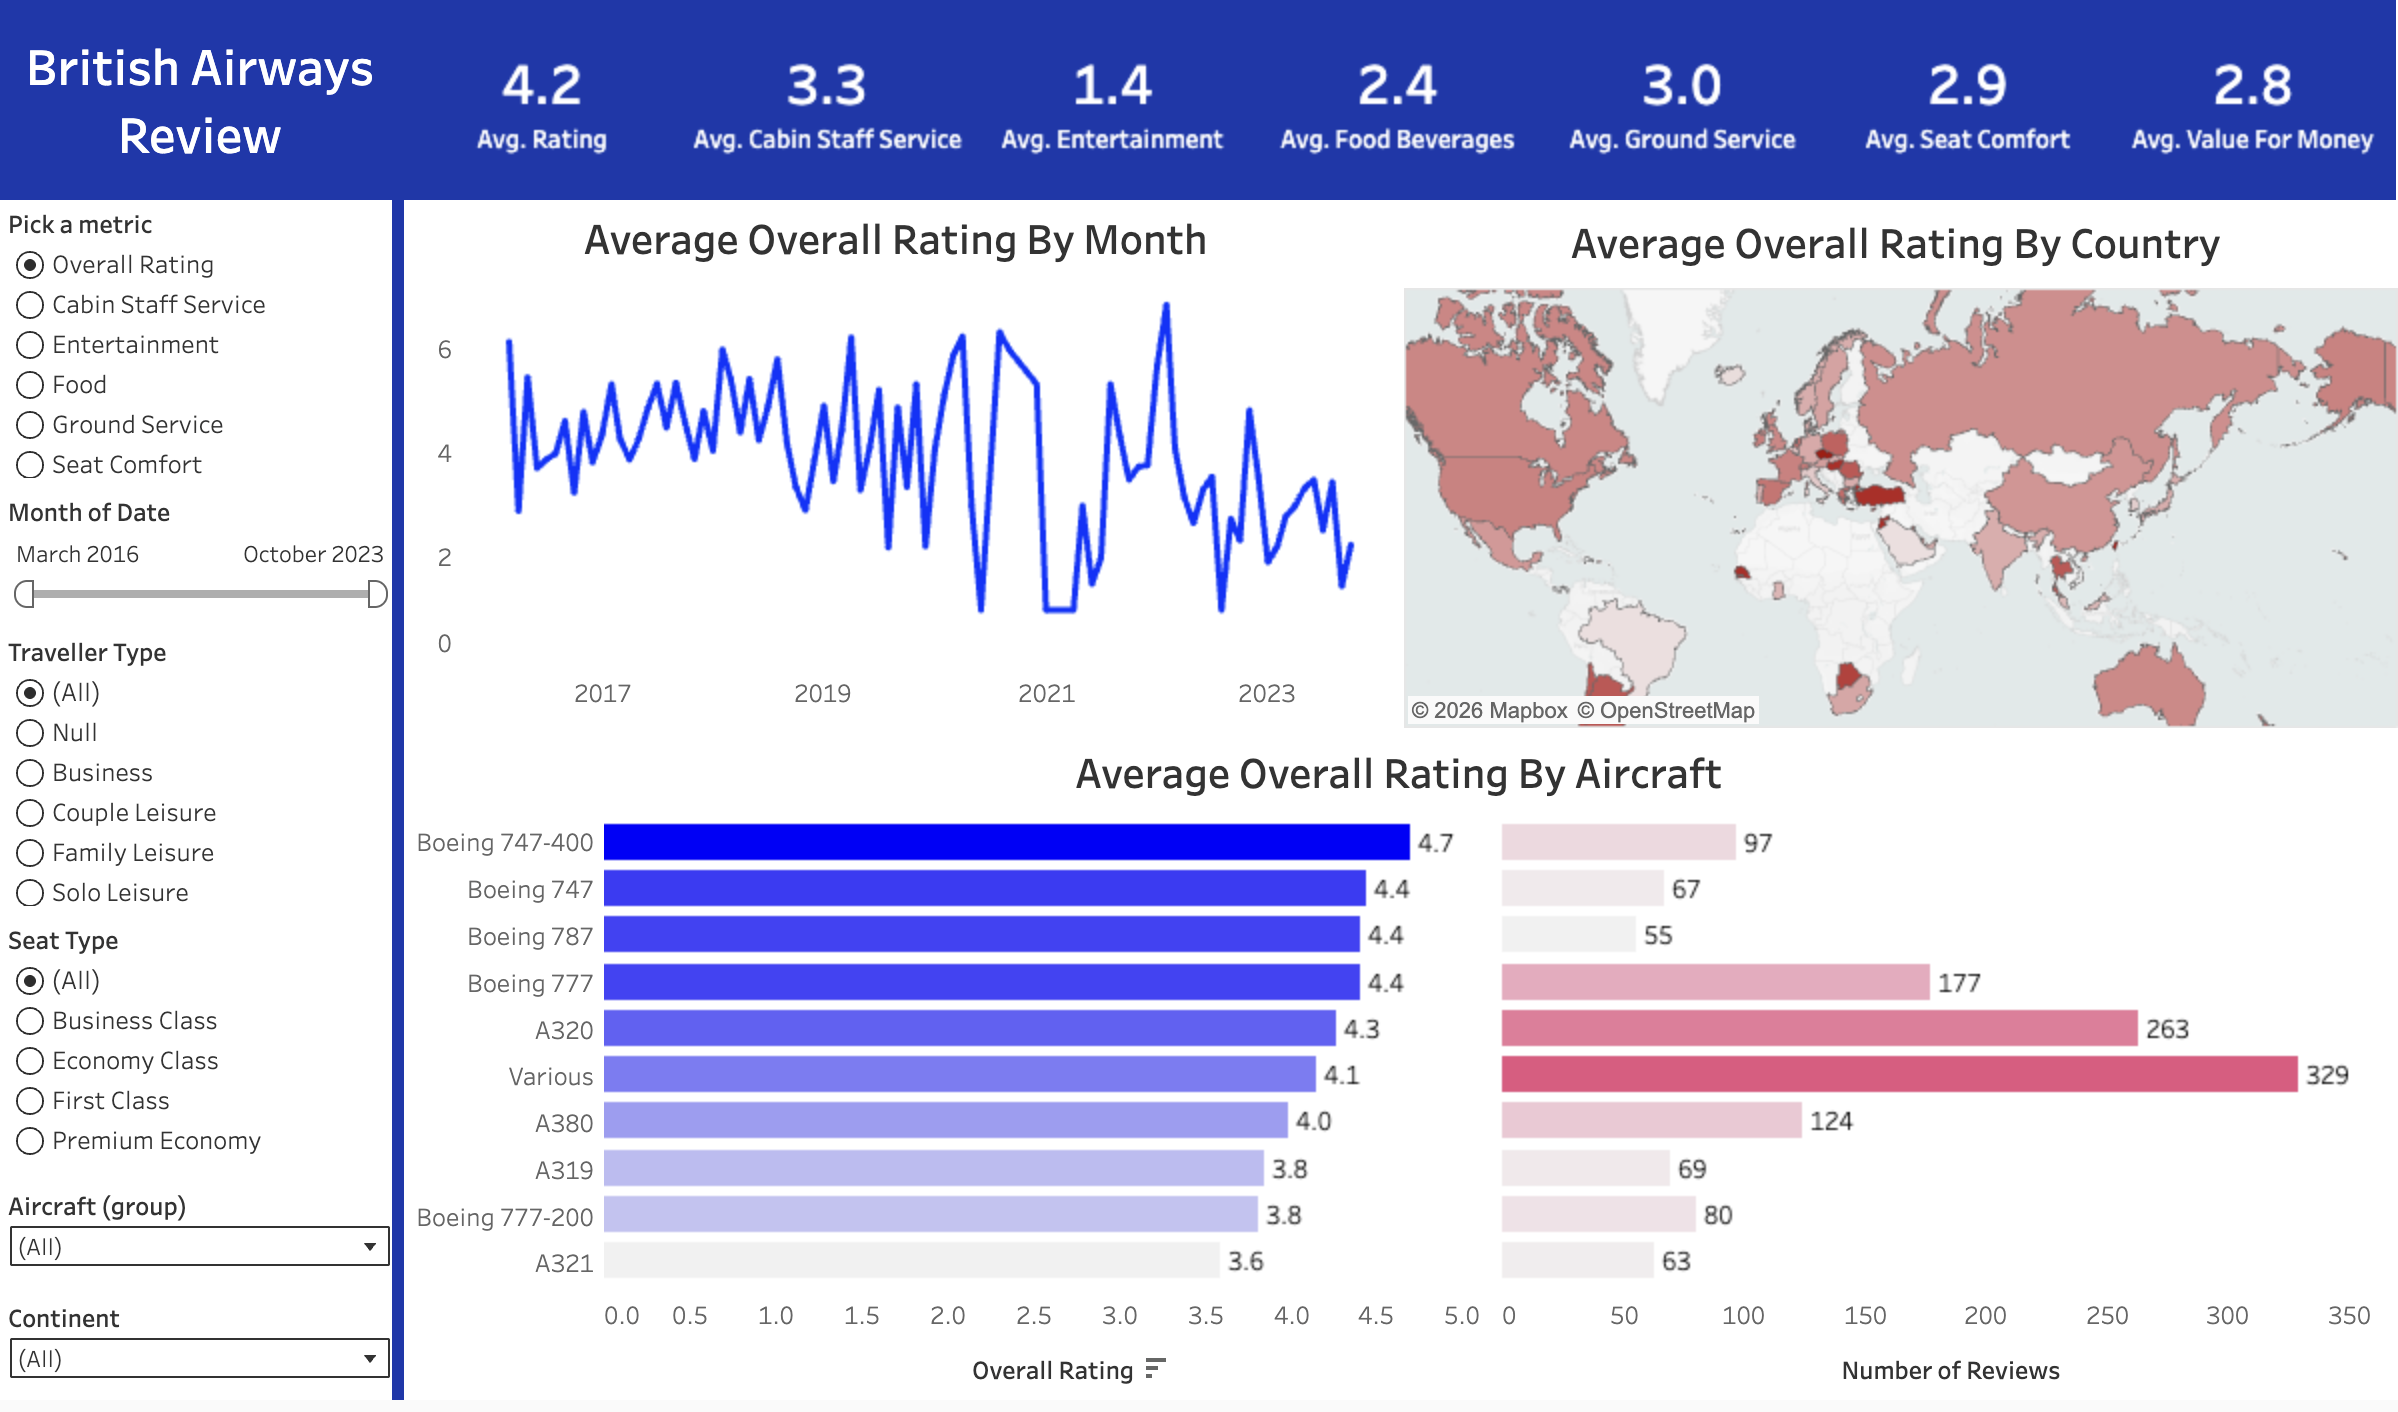

What the dashboard file says about the page in this screenshot:
{"tool":"tableau","page":{"name":"Dashboard 1","canvas":[1200,700],"ordinal":0},"visuals":[{"type":"text","box":[0,0,200,100]},{"type":"worksheet","title":"summary","mark":"Automatic","box":[200,0,998,100]},{"type":"parameter","param":"[Parameters].[Parameter 5485585899540480]","box":[0,99,200,157]},{"type":"blank","box":[196,99,6,601]},{"type":"worksheet","title":"Month","mark":"Automatic","rows":["Calculation_5485585900269569"],"cols":["date"],"box":[202,99,496,263]},{"type":"worksheet","title":"Map","mark":"Automatic","box":[702,101,497,263]},{"type":"filter","title":"Map","param":"[federated.040vtvn1fw4ve4139vxsv0f7gn6g].[tmn:date:qk]","box":[0,256,200,69]},{"type":"filter","title":"Map","param":"[federated.040vtvn1fw4ve4139vxsv0f7gn6g].[none:traveller_type:nk]","box":[0,325,200,146]},{"type":"worksheet","title":"Aircraft","mark":"Automatic","cols":["Calculation_5485585900269569","ba_reviews.csv_1A51AF64B6374A86853DF6493316E8E3"],"box":[202,366,999,334]},{"type":"filter","title":"Map","param":"[federated.040vtvn1fw4ve4139vxsv0f7gn6g].[none:seat_type:nk]","box":[0,471,200,127]},{"type":"filter","title":"Map","param":"[federated.040vtvn1fw4ve4139vxsv0f7gn6g].[Aircraft (group)]","box":[0,598,200,52]},{"type":"filter","title":"Map","param":"[federated.040vtvn1fw4ve4139vxsv0f7gn6g].[none:Continent:nk]","box":[0,650,200,52]}]}

Visuals, with their boxes in screenshot pixels (x1, y1, x2, y2), scaled from the page's 1200x700 canvas onto the 2398x1412 screenshot:
text: bbox(0, 0, 400, 202)
"summary" worksheet: bbox(400, 0, 2394, 202)
parameter: bbox(0, 200, 400, 516)
blank: bbox(392, 200, 404, 1411)
"Month" worksheet: bbox(404, 200, 1395, 730)
"Map" worksheet: bbox(1403, 204, 2396, 734)
"Map" filter: bbox(0, 516, 400, 656)
"Map" filter: bbox(0, 656, 400, 950)
"Aircraft" worksheet: bbox(404, 738, 2397, 1411)
"Map" filter: bbox(0, 950, 400, 1206)
"Map" filter: bbox(0, 1206, 400, 1311)
"Map" filter: bbox(0, 1311, 400, 1411)
